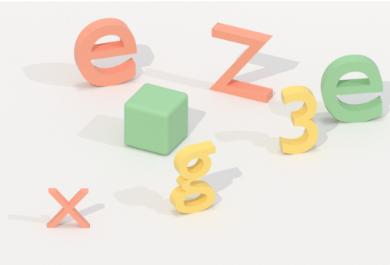0-KhoiVuong: (119, 80, 192, 158)
3: (277, 84, 320, 158)
X: (44, 183, 93, 234)
Z: (205, 18, 276, 106)
e: (72, 15, 141, 91), (319, 50, 387, 127)
g: (169, 138, 219, 217)
